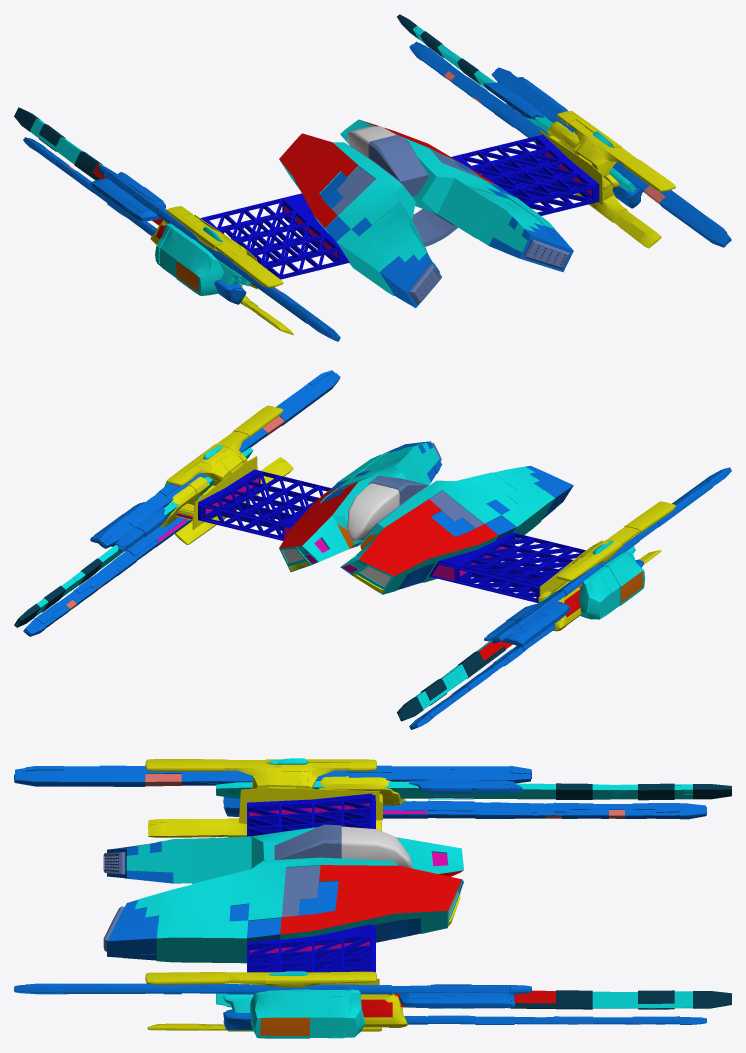
File: Starfighter.fbx
3 renders of one model, top to bottom at view 1: azimuth 30°, elevation 25°; view 2: azimuth 150°, elevation 25°; view 3: azimuth 270°, elevation 25°, orthographic. The views are drawn at different scales.
Visible parts, largest first — view 1: Starfighter; view 2: Starfighter; view 3: Starfighter.
Part boxes in pixels (x1=…): Starfighter: x1=14, y1=14, x2=731, y2=341; Starfighter: x1=14, y1=370, x2=731, y2=729; Starfighter: x1=14, y1=758, x2=731, y2=1038.
Size of the model in its own units: 1195 by 236 by 1500.
